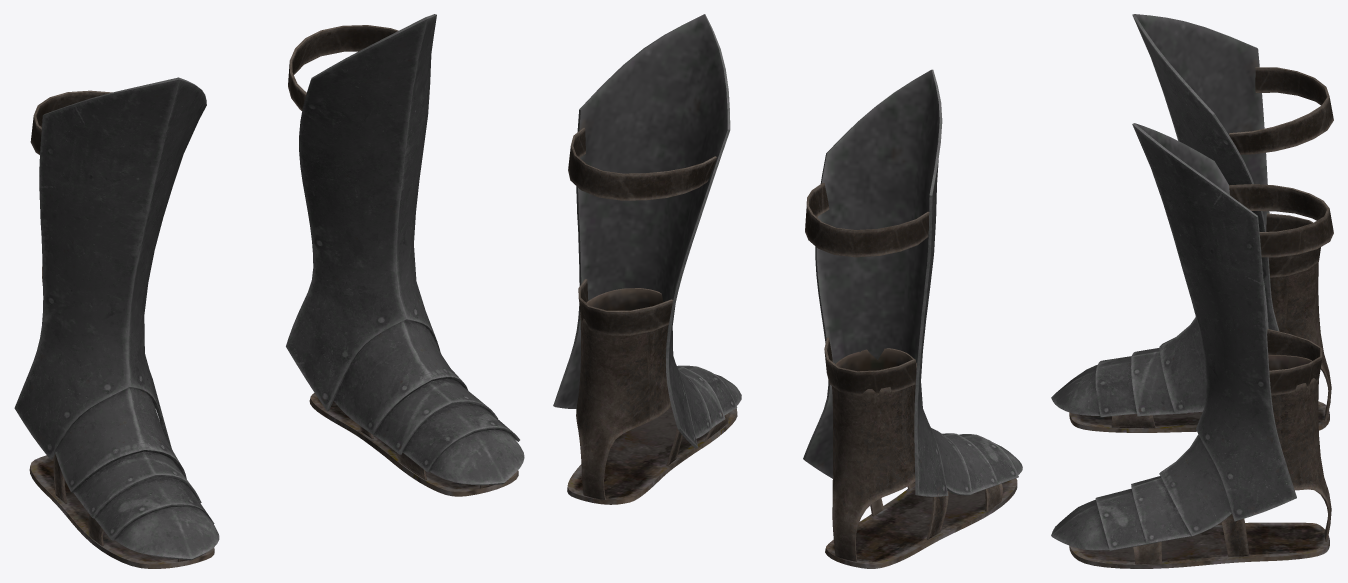
File: sk_uruk_hai_greaves_heavy_a1.fbx
The picture shows the model from 3 angles, left to right: view 1: azimuth 30°, elevation 25°; view 2: azimuth 150°, elevation 25°; view 3: azimuth 270°, elevation 25°; orthographic projection. The views are drawn at different scales.
Visible parts, largest first — view 1: sk_uruk_hai_greaves_heavy_a1.0, sk_uruk_hai_greaves_heavy_a1.1; view 2: sk_uruk_hai_greaves_heavy_a1.0, sk_uruk_hai_greaves_heavy_a1.1; view 3: sk_uruk_hai_greaves_heavy_a1.0, sk_uruk_hai_greaves_heavy_a1.1.
Part boxes in pixels (x1,y1,x2,y2): sk_uruk_hai_greaves_heavy_a1.0: (14,14,524,568); sk_uruk_hai_greaves_heavy_a1.1: (30,25,398,285); sk_uruk_hai_greaves_heavy_a1.0: (553,14,1022,568); sk_uruk_hai_greaves_heavy_a1.1: (568,127,929,395); sk_uruk_hai_greaves_heavy_a1.0: (1051,14,1331,568); sk_uruk_hai_greaves_heavy_a1.1: (1229,67,1333,395).
Size of the model in its own units: 0.4721 by 0.3122 by 0.5046.
2 materials, 2 textured.
